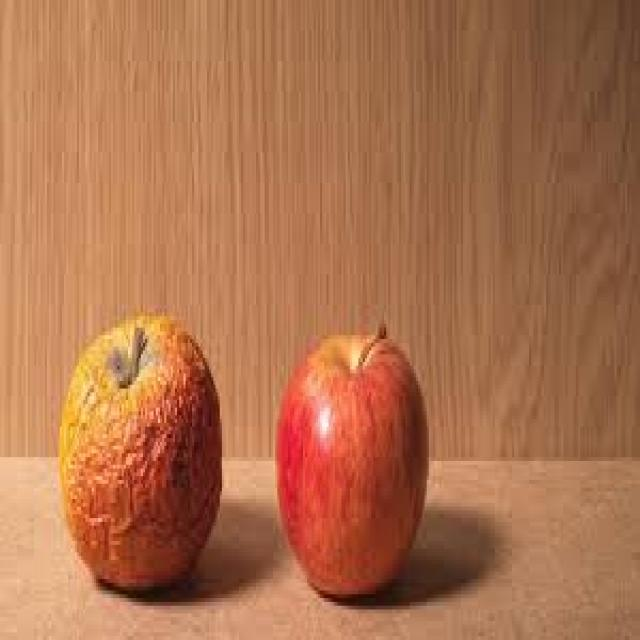food_waste: (58, 312, 220, 587), (277, 324, 422, 594)
